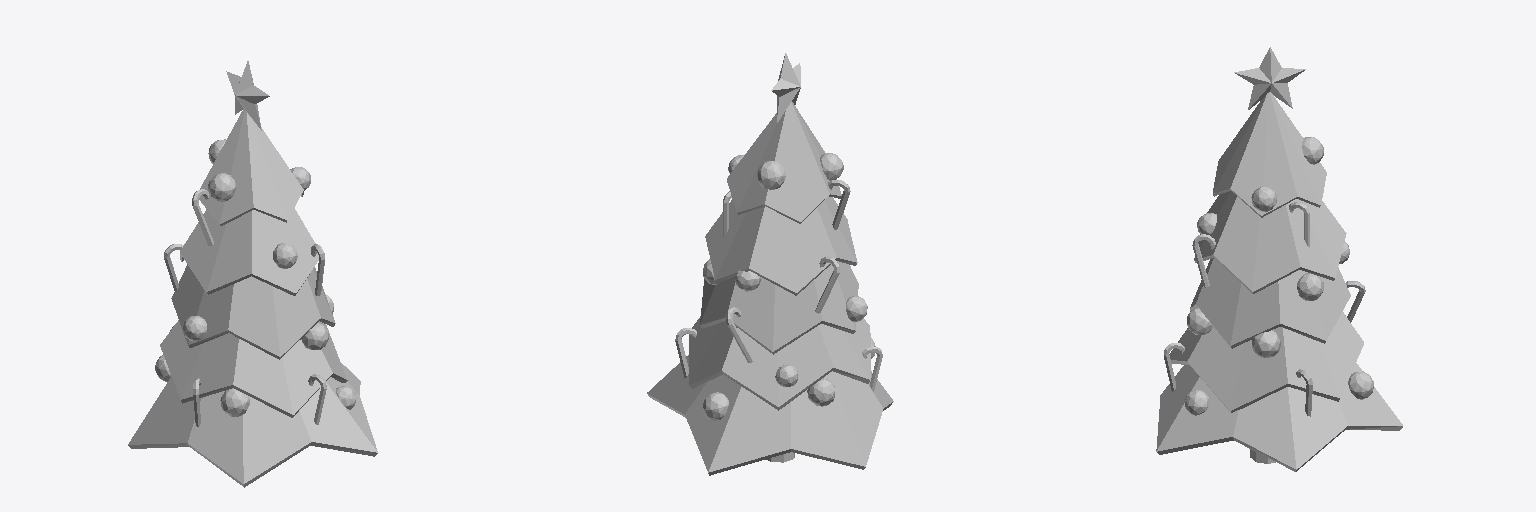
The model's file is christmas_tree.obj.
3 renders of one model, left to right at view 1: azimuth 30°, elevation 25°; view 2: azimuth 150°, elevation 25°; view 3: azimuth 270°, elevation 25°, orthographic.
Parts seen in each view (by area): view 1: group[number redacted], group[number redacted], group[number redacted], group[number redacted], group[number redacted], group[number redacted], group[number redacted], group[number redacted]; view 2: group[number redacted], group[number redacted], group[number redacted], group[number redacted], group[number redacted], group[number redacted], group[number redacted], group[number redacted], group[number redacted]; view 3: group[number redacted], group[number redacted], group[number redacted], group[number redacted], group[number redacted], group[number redacted], group[number redacted], group[number redacted], group[number redacted].
Boxes of the visible parts, x1,y1,x2,y2 form: group[number redacted]: [128, 363, 377, 487]; group[number redacted]: [160, 320, 347, 417]; group[number redacted]: [171, 264, 335, 359]; group[number redacted]: [180, 208, 318, 295]; group[number redacted]: [199, 109, 303, 225]; group[number redacted]: [226, 61, 269, 130]; group[number redacted]: [220, 388, 249, 416]; group[number redacted]: [208, 173, 235, 201]; group[number redacted]: [647, 355, 893, 475]; group[number redacted]: [689, 316, 870, 410]; group[number redacted]: [705, 196, 857, 295]; group[number redacted]: [700, 261, 858, 354]; group[number redacted]: [727, 102, 841, 223]; group[number redacted]: [771, 53, 800, 122]; group[number redacted]: [757, 161, 785, 189]; group[number redacted]: [807, 378, 834, 406]; group[number redacted]: [703, 392, 728, 420]; group[number redacted]: [1156, 363, 1402, 471]; group[number redacted]: [1169, 312, 1363, 412]; group[number redacted]: [1194, 191, 1346, 293]; group[number redacted]: [1190, 258, 1350, 348]; group[number redacted]: [1213, 92, 1326, 217]; group[number redacted]: [1234, 47, 1305, 109]; group[number redacted]: [1252, 330, 1280, 357]; group[number redacted]: [1297, 273, 1323, 300]; group[number redacted]: [1348, 371, 1373, 399].
Size of the model in its own units: 0.8953 by 1.54 by 0.848.